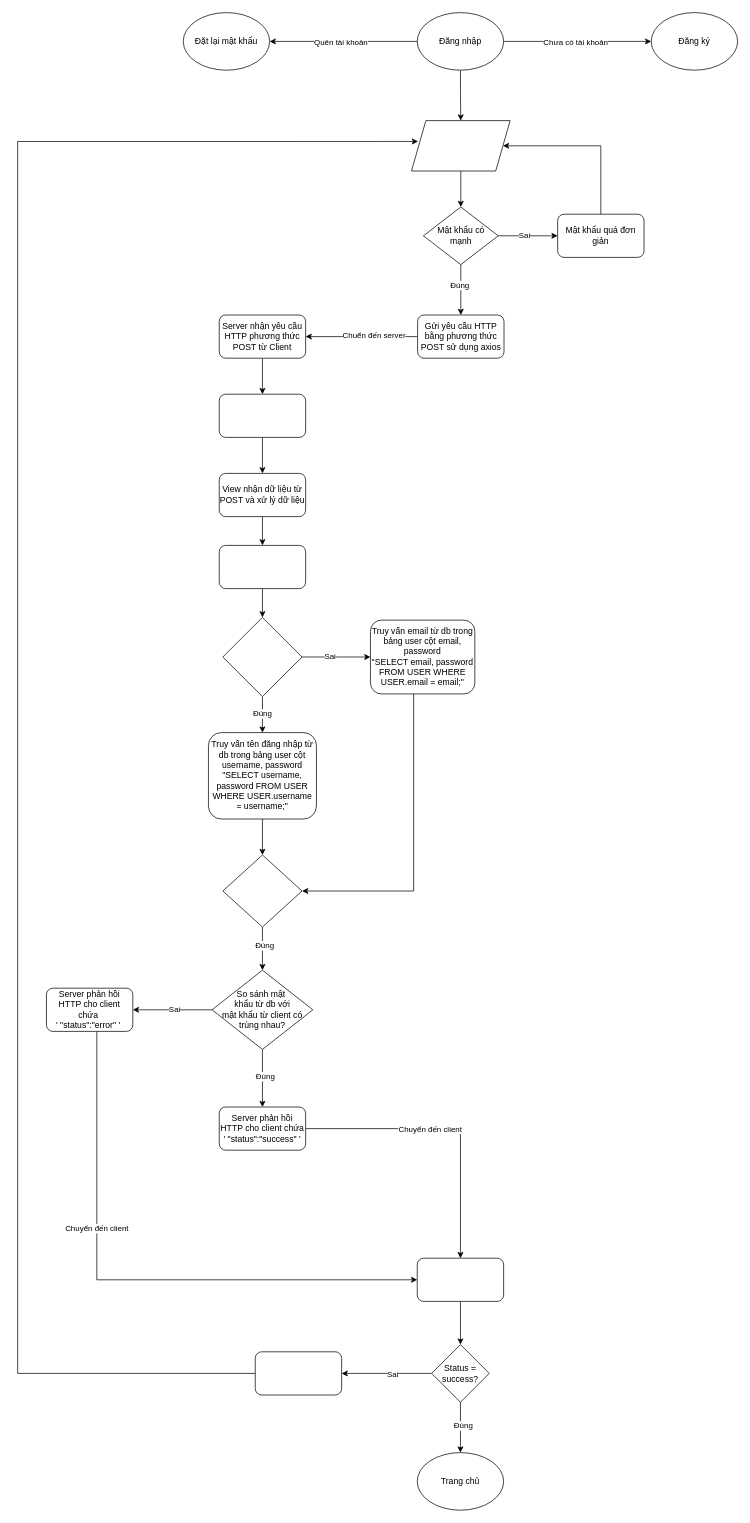
Some shapes in this 750 by 1523 pixel diagram are drawn without their labels. Each missing label, with the centre of its shape:
Axios nhận phản hồi từ HTTP từ server: point 460,1279
Kết quả truy vấn trả về lớn hơn 1 dòng: point 262,890
Là tên đăng nhập?: point 262,657
Mã hoá mật khẩu nhận được từ Client: point 262,567
Nhập email hoặc tên đăng nhập và mật khẩu: point 460,145
Sai tên đăng nhập hoặc mật khẩu.: point 298,1373
Server chuyển hướng yêu cầu đến view tương ứng: point 262,415
